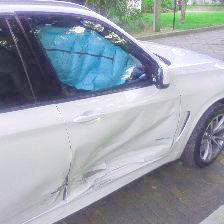door_dent: (31, 142, 122, 195), (99, 111, 184, 144)
